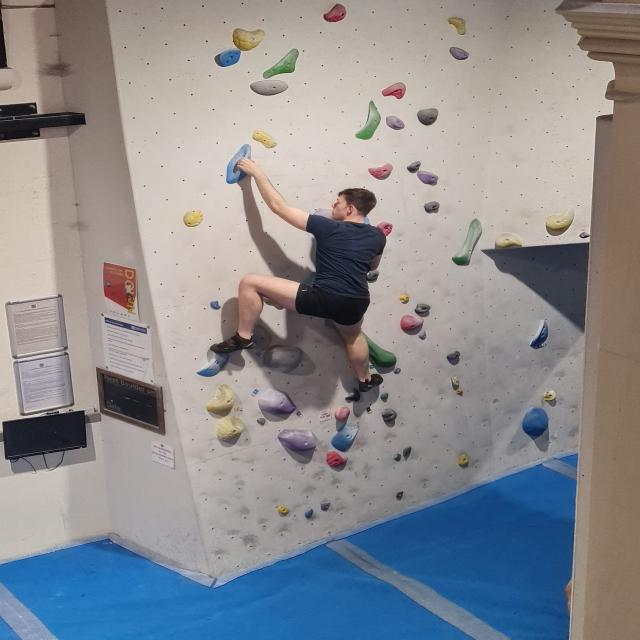Crimp: (250, 130, 282, 149), (181, 208, 206, 229), (399, 443, 417, 461), (274, 503, 293, 518), (317, 501, 336, 513), (457, 452, 470, 468), (444, 351, 464, 360), (389, 452, 405, 463), (397, 292, 410, 305), (450, 376, 461, 391), (302, 507, 313, 520), (416, 330, 428, 339), (394, 491, 405, 500), (455, 388, 465, 396)
Jug: (260, 48, 303, 79), (194, 346, 231, 380), (356, 98, 382, 143), (333, 422, 363, 451), (526, 318, 553, 350), (320, 0, 349, 26), (379, 80, 412, 100), (368, 162, 396, 182), (413, 107, 439, 127), (218, 48, 242, 68), (324, 451, 349, 468), (382, 406, 404, 424), (343, 386, 363, 404), (332, 405, 351, 421), (423, 199, 440, 214), (413, 303, 434, 315), (404, 160, 424, 172), (367, 269, 380, 281)
Sloper: (450, 214, 486, 268), (255, 387, 304, 416), (262, 343, 302, 372), (276, 427, 318, 454), (541, 206, 578, 234), (231, 26, 268, 54), (520, 406, 552, 438), (204, 383, 236, 413), (214, 416, 248, 444), (249, 77, 290, 100), (494, 232, 523, 249), (398, 315, 423, 333), (446, 46, 478, 60), (447, 17, 469, 36), (416, 168, 438, 187), (386, 115, 405, 133)
